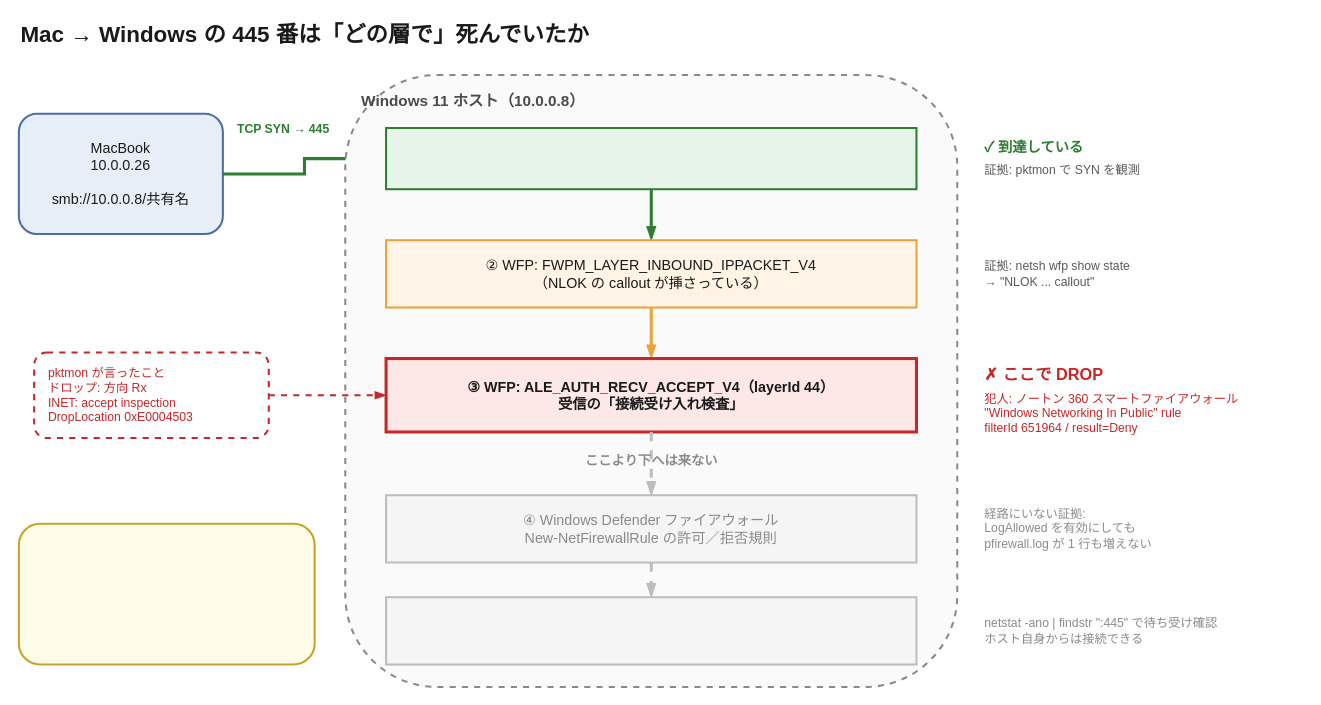
This 1321x705 diagram has some shape labels left out. The shapes that lost their labels are listed below. From the top down, each one's centre as x and y in pixels, then its label:
At [651,158]: "① NIC / IP 層（Wi-Fi・Ethernet）".
At [166,593]: "切り分けの要点 Windows 側の規則は足しても引いても 効かない。このホストの関門は ③ の ノートンで、④ は許可も拒否も素通り。".
At [651,630]: "⑤ LanmanServer 0.0.0.0:445 正常に待ち受けている（が呼ばれない）".
